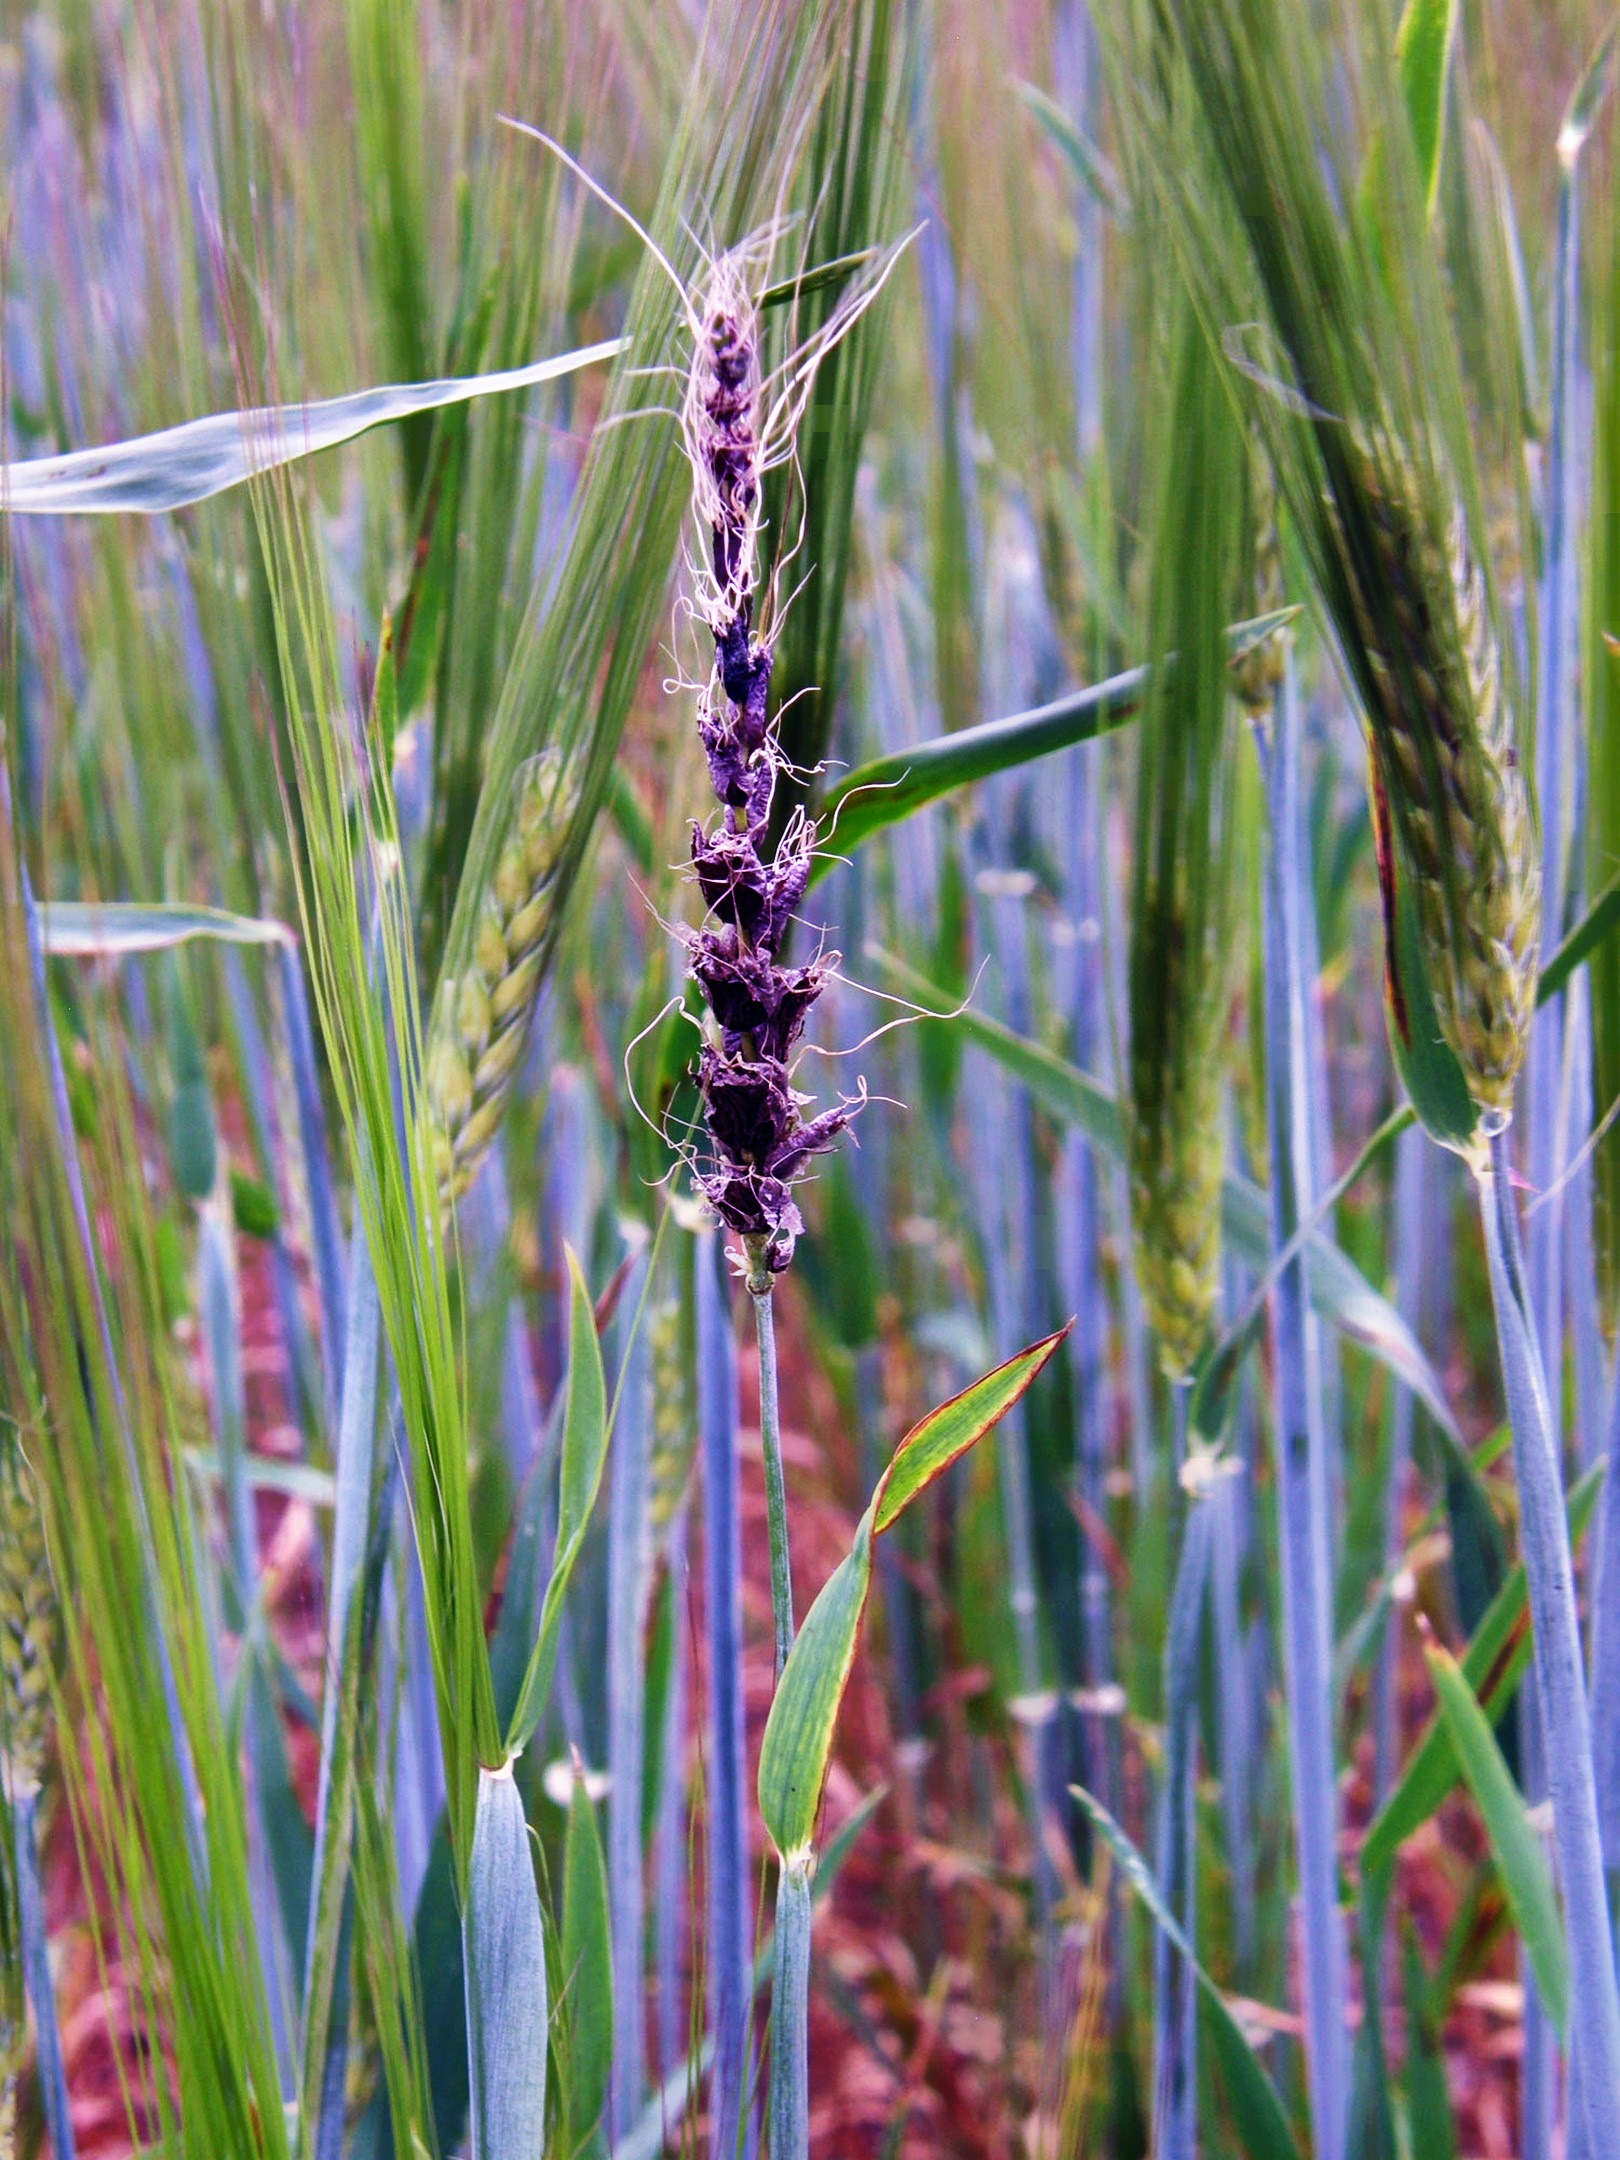Wheat Loose Smut: (655, 270, 880, 1298)
